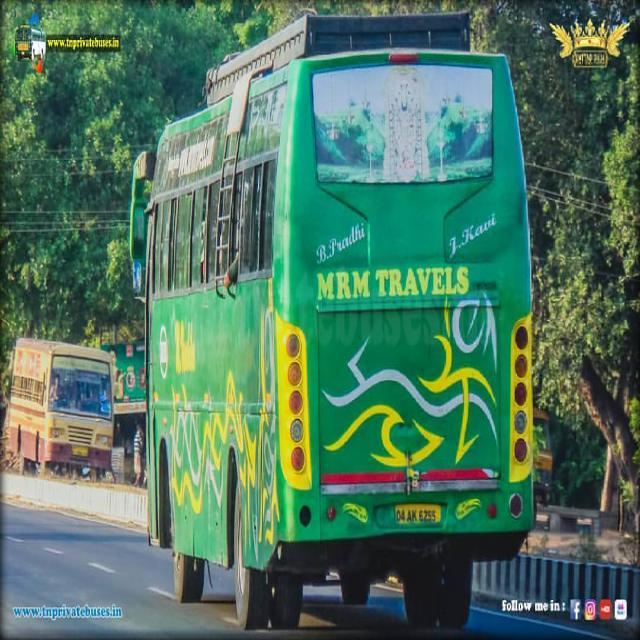Bus: (129, 12, 531, 638), (9, 337, 117, 476)
